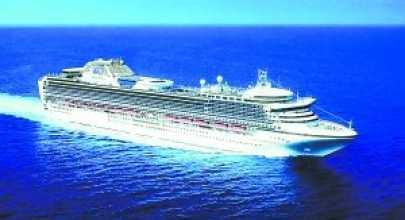youlun: (37, 45, 358, 161)
